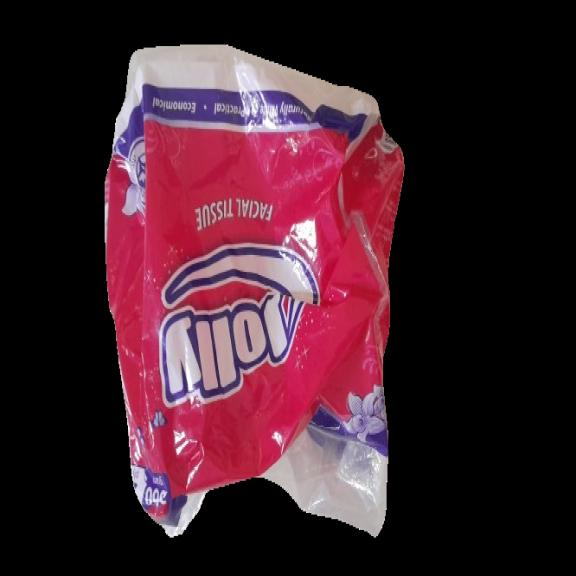Plastik: (97, 33, 408, 539)
